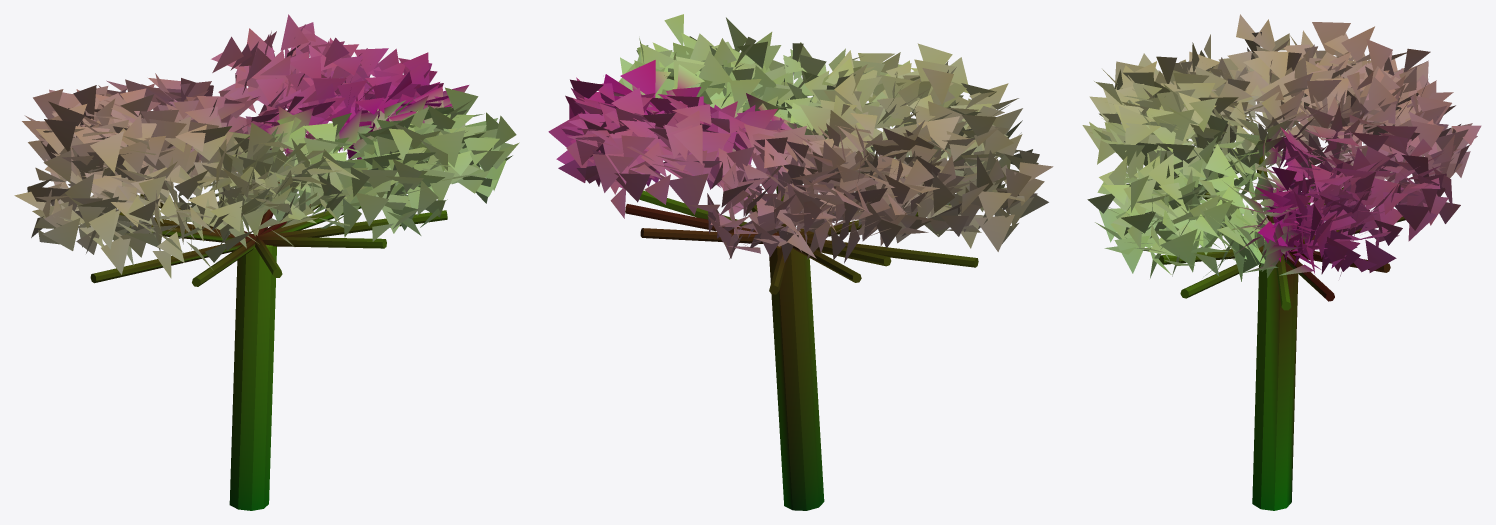
Rendered from mature_savanna_02.glb.
3 renders of one model, left to right at view 1: azimuth 30°, elevation 25°; view 2: azimuth 150°, elevation 25°; view 3: azimuth 270°, elevation 25°, orthographic. The views are drawn at different scales.
Visible parts, largest first — view 1: mature_savanna_02; view 2: mature_savanna_02; view 3: mature_savanna_02.
Part boxes in pixels (x1,y1,x2,y2): mature_savanna_02: (14,14,519,510); mature_savanna_02: (548,14,1053,510); mature_savanna_02: (1082,14,1481,510).
Size of the model in its own units: 12.39 by 10.77 by 9.46.
